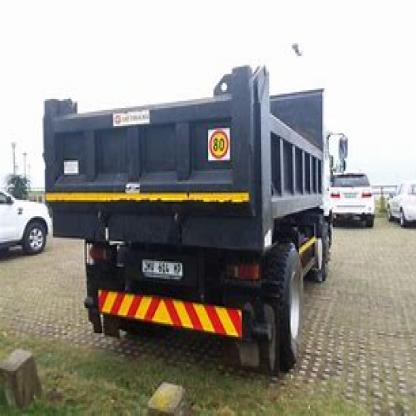dump_truck: (38, 49, 363, 380)
